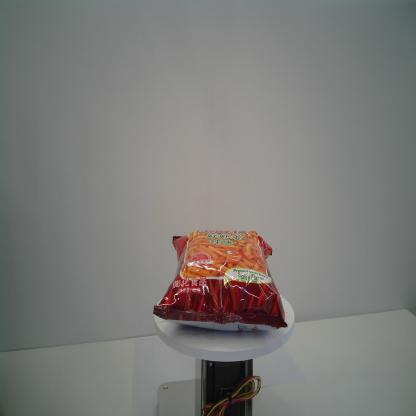Puffed Food: (152, 229, 288, 332)
